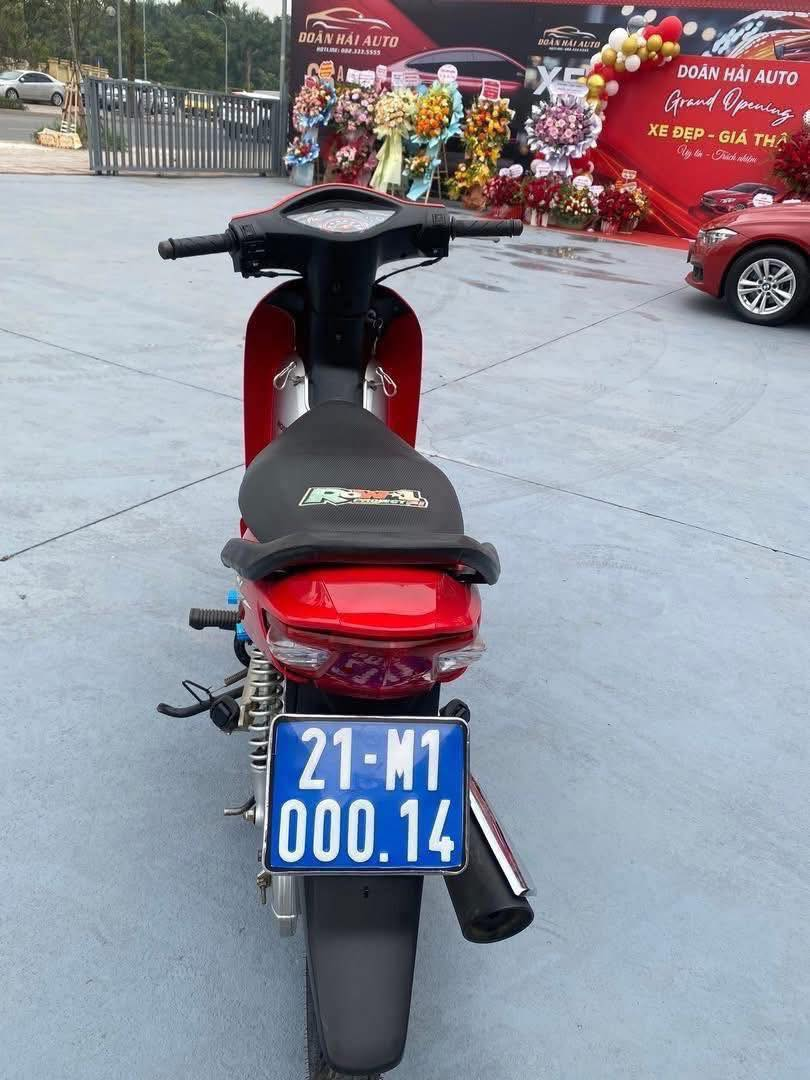bien_so: (253, 698, 488, 887)
